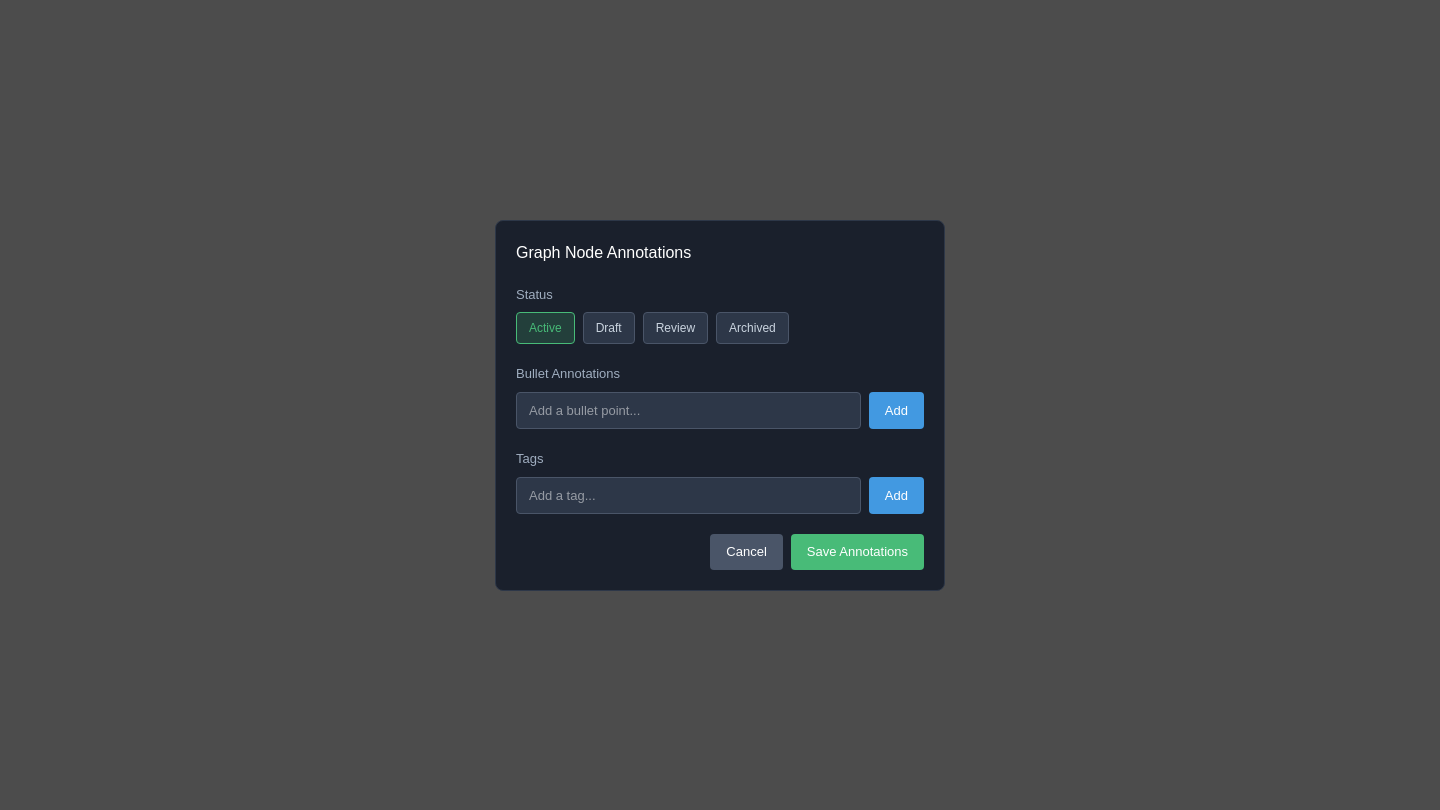
Scenario: GraphAnnotation › adds tag
Type "newtag" into the field with placeholder "Add a tag...". click: (688, 495)
box: [516,476,861,514]
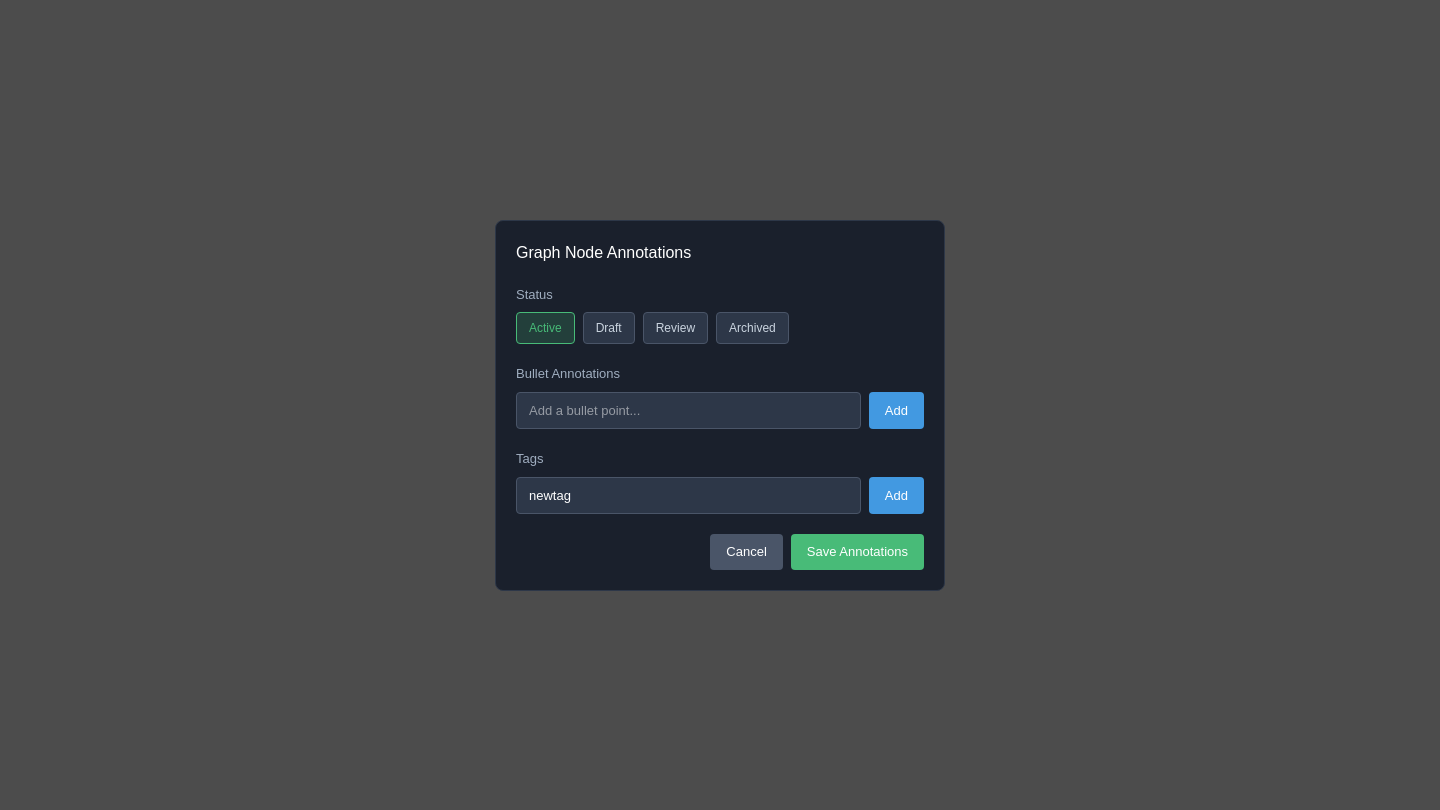
Click the 2nd button "Add". click: click(896, 495)
box: [869,476,924,514]
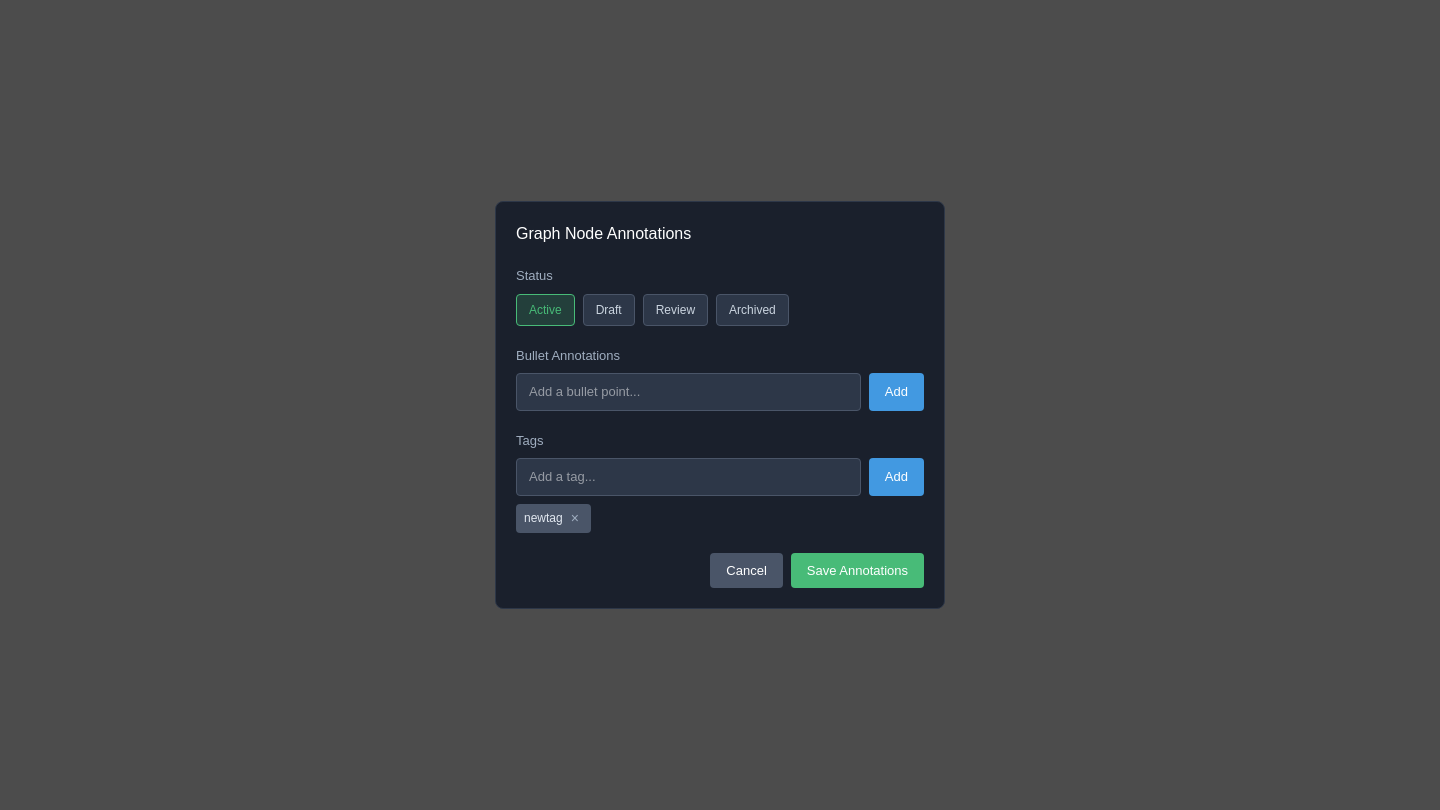
Expected: the text "newtag" is shown, [524,511,563,525]
